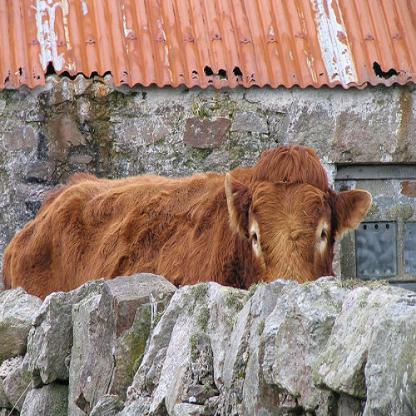cow: (2, 142, 374, 303)
